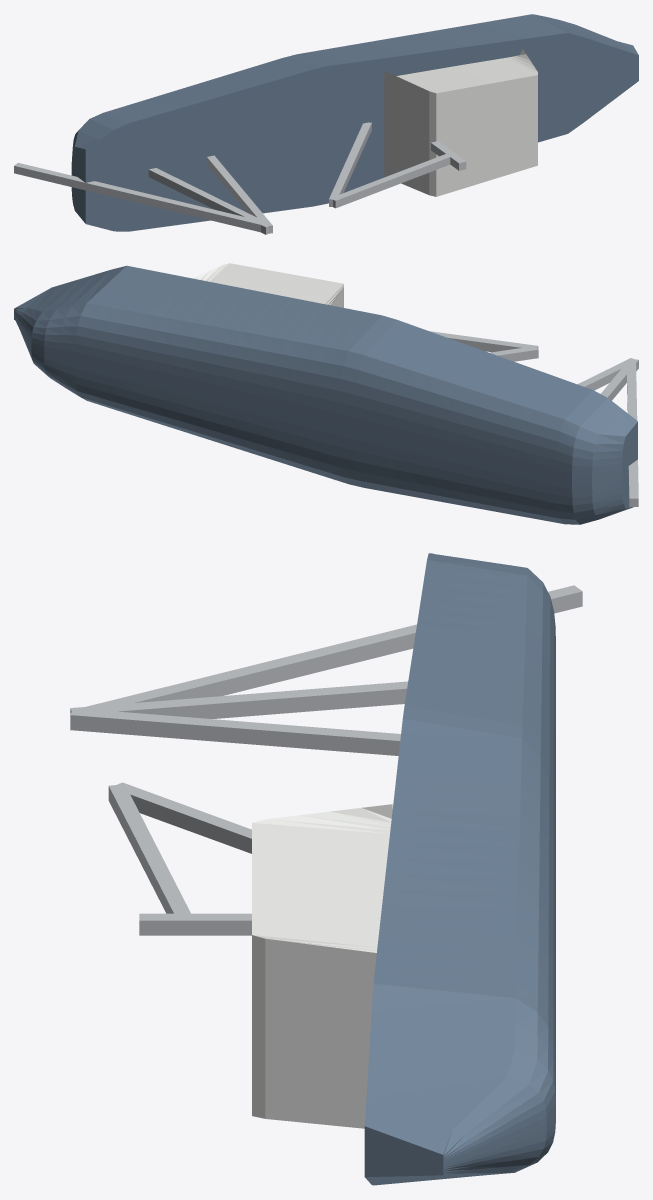
File: fishing-gear-loft.glb
The picture shows the model from 3 angles, top to bottom: view 1: azimuth 30°, elevation 25°; view 2: azimuth 150°, elevation 25°; view 3: azimuth 270°, elevation 25°; orthographic projection. The views are drawn at different scales.
Visible parts, largest first — view 1: fishing-gear; view 2: fishing-gear; view 3: fishing-gear.
Boxes of the visible parts, bbox=[...] form: fishing-gear: bbox=[14, 14, 638, 234]; fishing-gear: bbox=[14, 263, 638, 524]; fishing-gear: bbox=[70, 553, 582, 1185].
Bounding box in the file's own units: 1.95 × 0.4374 × 0.738.
